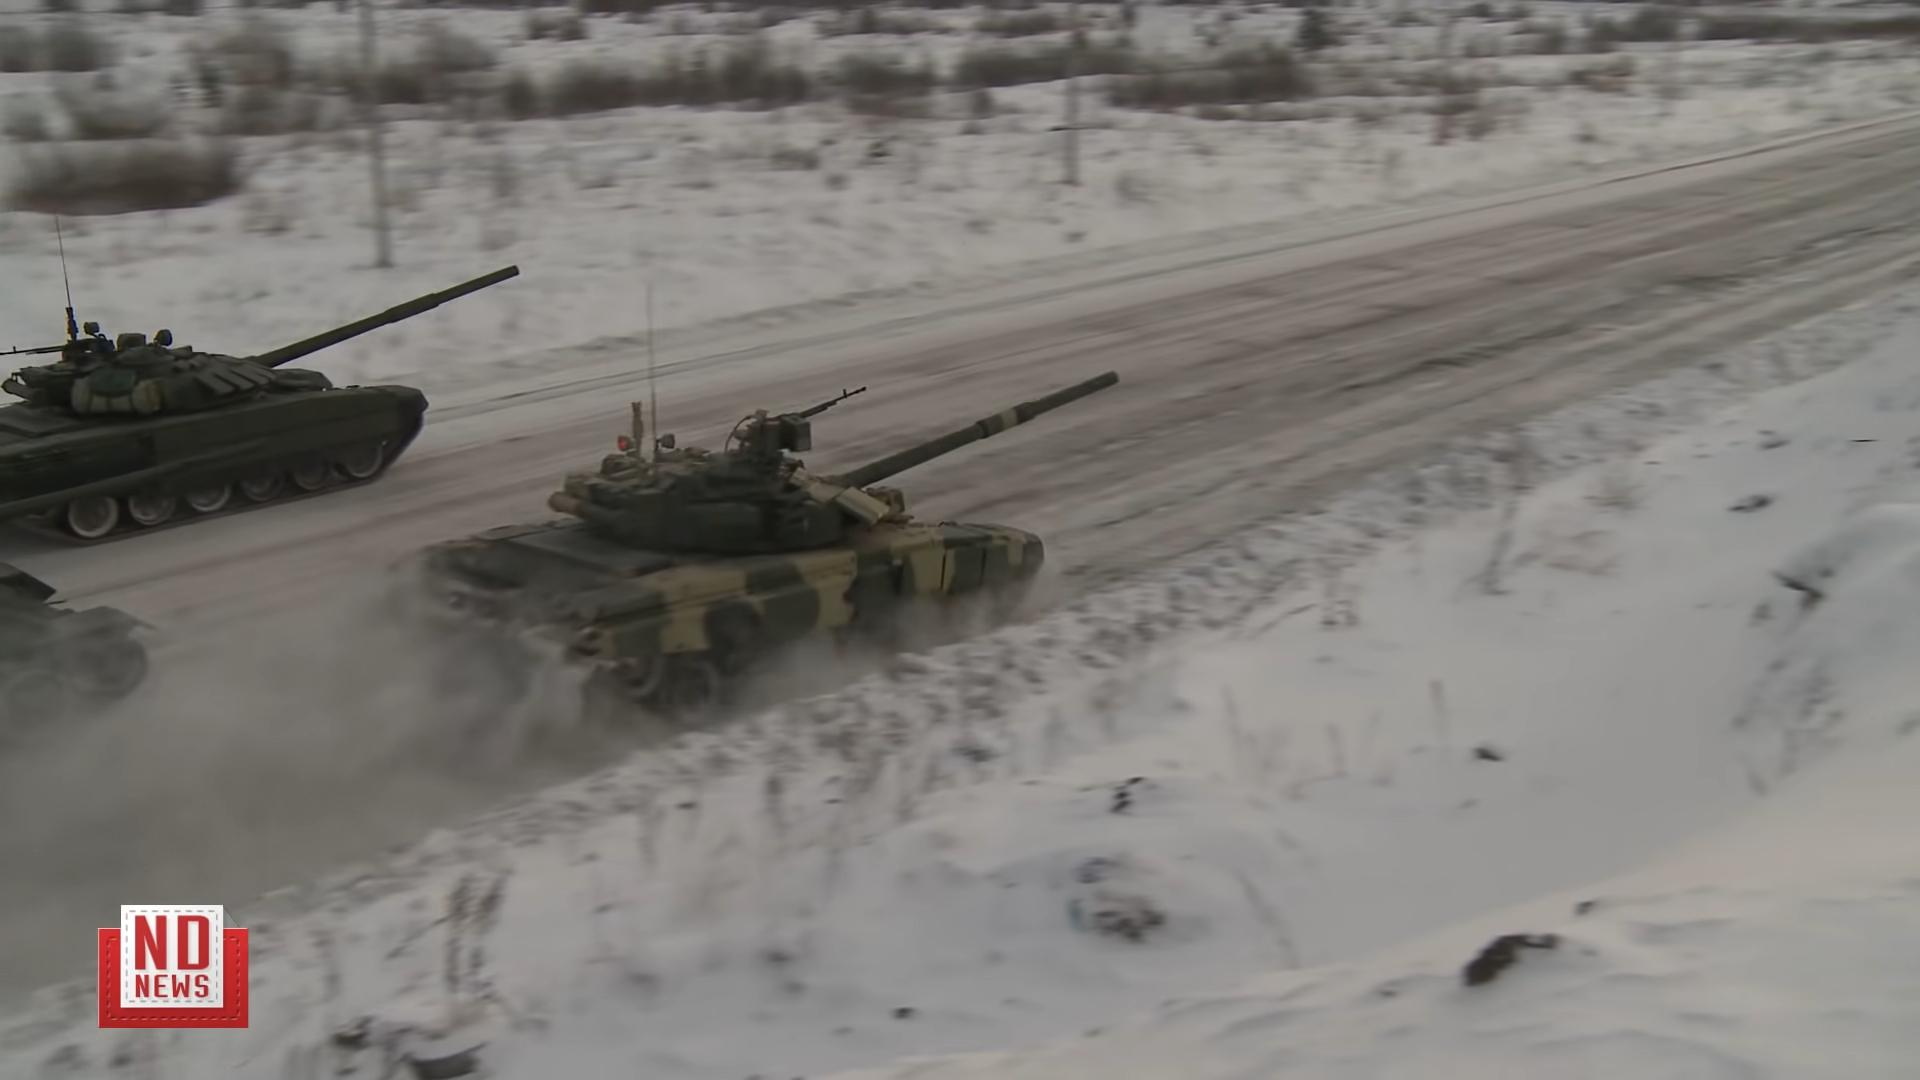tank: (397, 376, 1118, 724), (1, 272, 517, 545), (1, 559, 153, 732)
